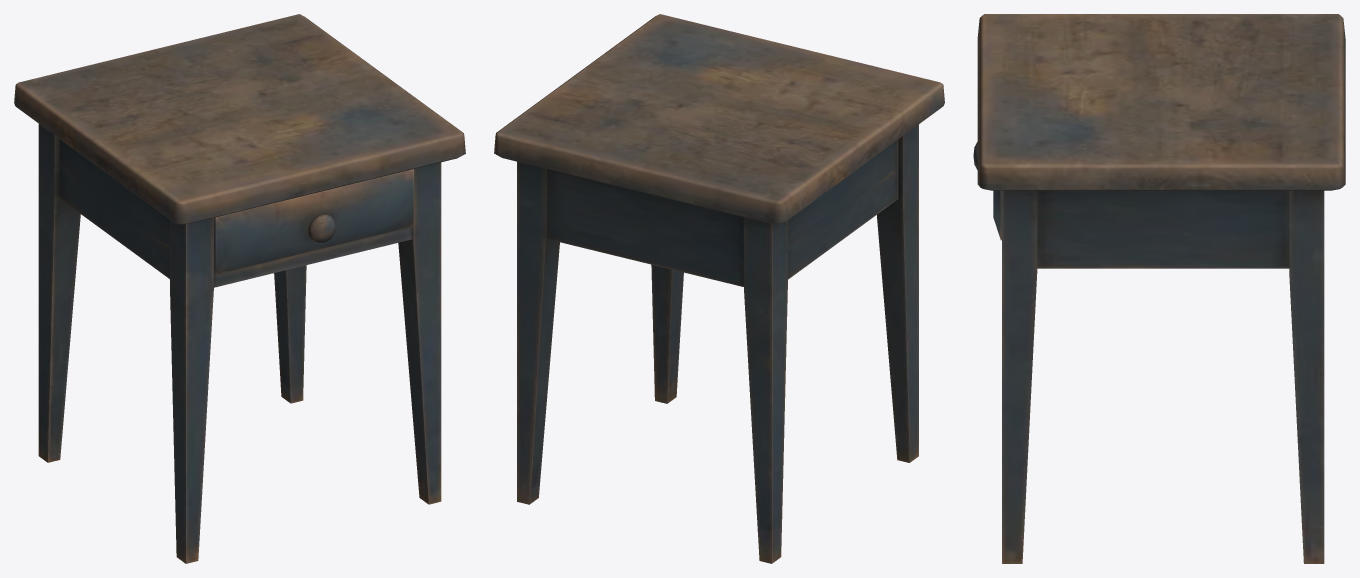
Rendered from nightstand.glb.
3 renders of one model, left to right at view 1: azimuth 30°, elevation 25°; view 2: azimuth 150°, elevation 25°; view 3: azimuth 270°, elevation 25°, orthographic. The views are drawn at different scales.
Parts seen in each view (by area): view 1: painted_wooden_nightstand; view 2: painted_wooden_nightstand; view 3: painted_wooden_nightstand.
Part boxes in pixels (box(x1,y1,x2,y2)): painted_wooden_nightstand: box(14, 14, 465, 563); painted_wooden_nightstand: box(494, 14, 944, 563); painted_wooden_nightstand: box(973, 14, 1345, 563).
Size of the model in its own units: 0.505 by 0.615 by 0.51.
1 material, 1 textured.
